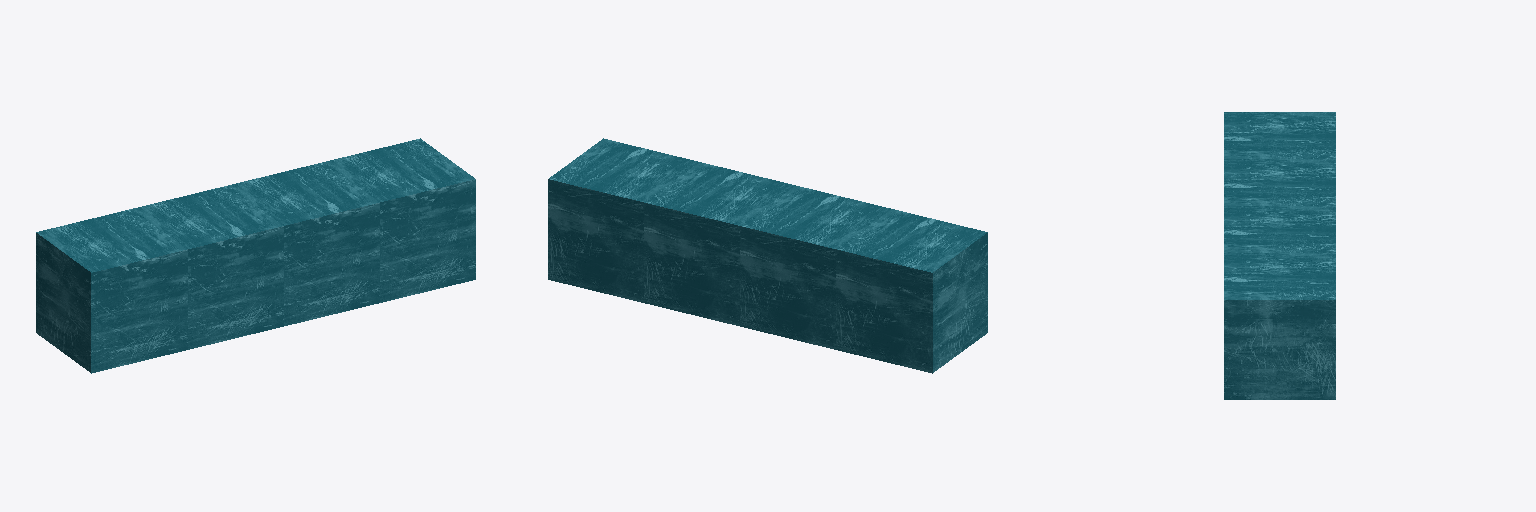
3 renders of one model, left to right at view 1: azimuth 30°, elevation 25°; view 2: azimuth 150°, elevation 25°; view 3: azimuth 270°, elevation 25°, orthographic.
Visible parts, largest first — view 1: Cube.004, Cube.002, Cube.003, Cube.001; view 2: Cube.004, Cube.002, Cube.003, Cube.001; view 3: Cube.002, Cube.001, Cube.003, Cube.004.
Boxes of the visible parts, <box> form: Cube.004: <box>36,209,187,373</box>; Cube.002: <box>325,138,475,302</box>; Cube.003: <box>133,186,283,349</box>; Cube.001: <box>228,162,379,325</box>; Cube.004: <box>836,209,987,373</box>; Cube.002: <box>548,138,698,302</box>; Cube.003: <box>740,186,890,349</box>; Cube.001: <box>644,162,795,325</box>; Cube.002: <box>1224,253,1335,399</box>; Cube.001: <box>1224,206,1335,252</box>; Cube.003: <box>1224,159,1335,205</box>; Cube.004: <box>1224,112,1335,158</box>.
Size of the model in its own units: 8 by 2 by 2.
1 materials, 1 textured.